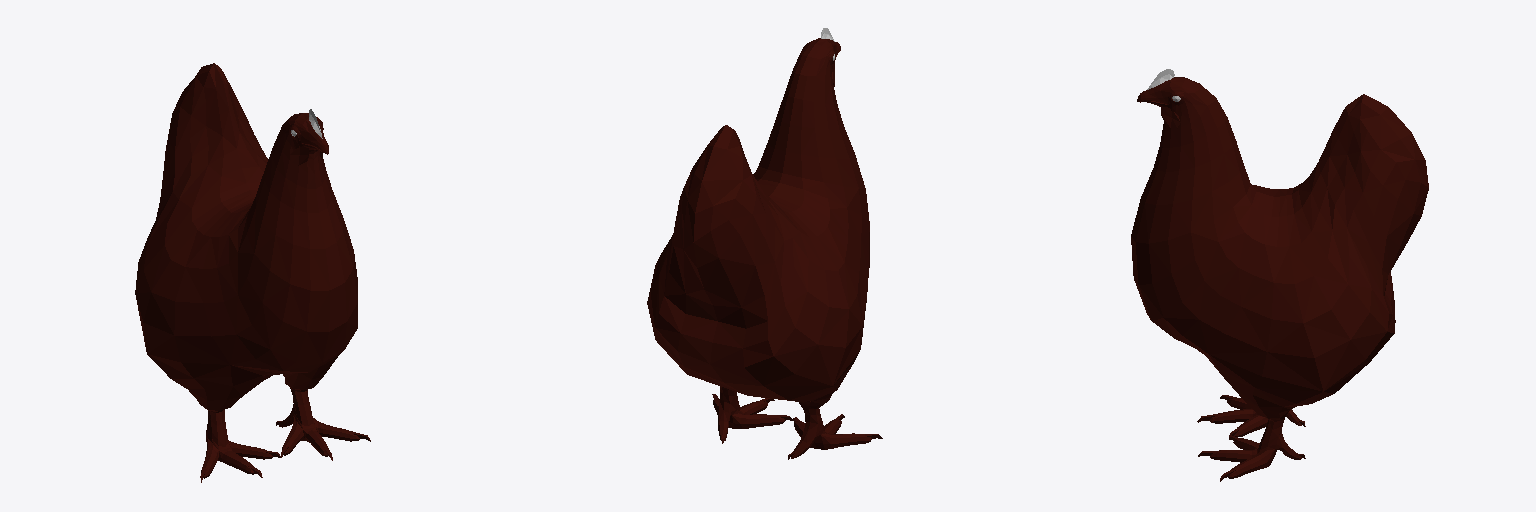
The model's file is chicken.obj.
The picture shows the model from 3 angles: view 1: azimuth 30°, elevation 25°; view 2: azimuth 150°, elevation 25°; view 3: azimuth 270°, elevation 25°; orthographic projection.
Parts seen in each view (by area): view 1: Chicken_Cylinder.001; view 2: Chicken_Cylinder.001; view 3: Chicken_Cylinder.001.
Boxes of the visible parts, <box> form: Chicken_Cylinder.001: <box>135,63,370,482</box>; Chicken_Cylinder.001: <box>647,28,882,459</box>; Chicken_Cylinder.001: <box>1131,69,1428,481</box>.
Bounding box in the file's own units: 6.73 × 12.65 × 9.12.